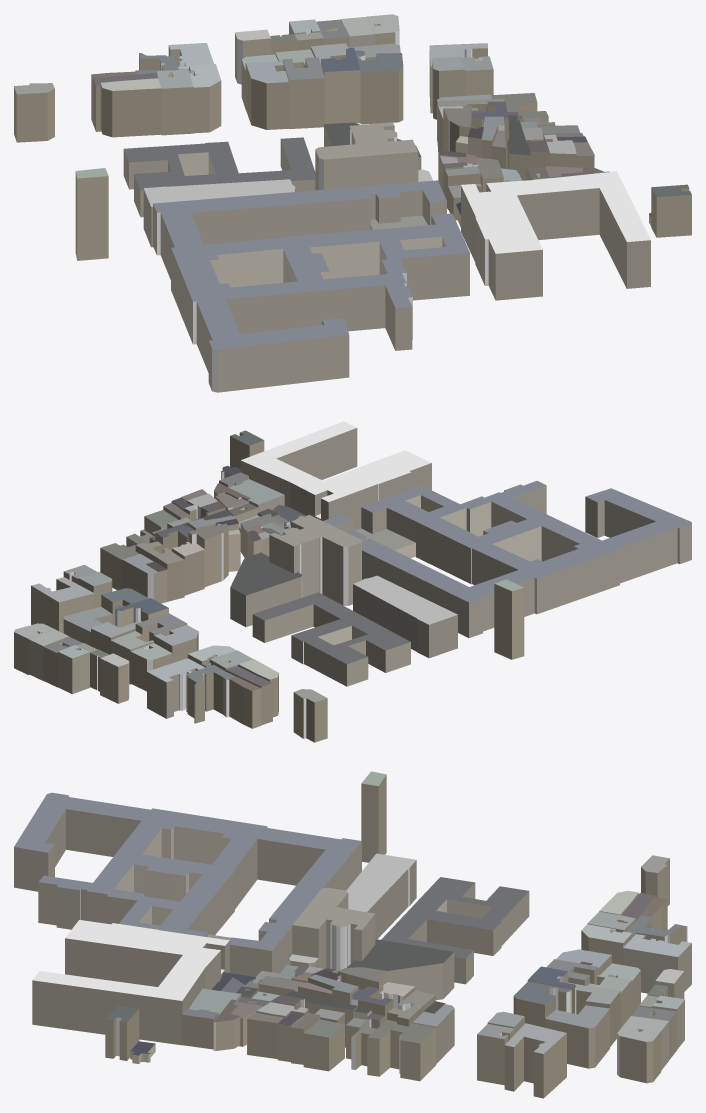
3 renders of one model, top to bottom at view 1: azimuth 30°, elevation 25°; view 2: azimuth 150°, elevation 25°; view 3: azimuth 270°, elevation 25°, orthographic. The views are drawn at different scales.
Parts seen in each view (by area): view 1: tuile; view 2: tuile; view 3: tuile.
Boxes of the visible parts, x1=… form: tuile: x1=14, y1=14, x2=691, y2=392; tuile: x1=14, y1=421, x2=691, y2=742; tuile: x1=14, y1=771, x2=691, y2=1098.
Bounding box in the file's own units: 257 × 46.39 × 297.
